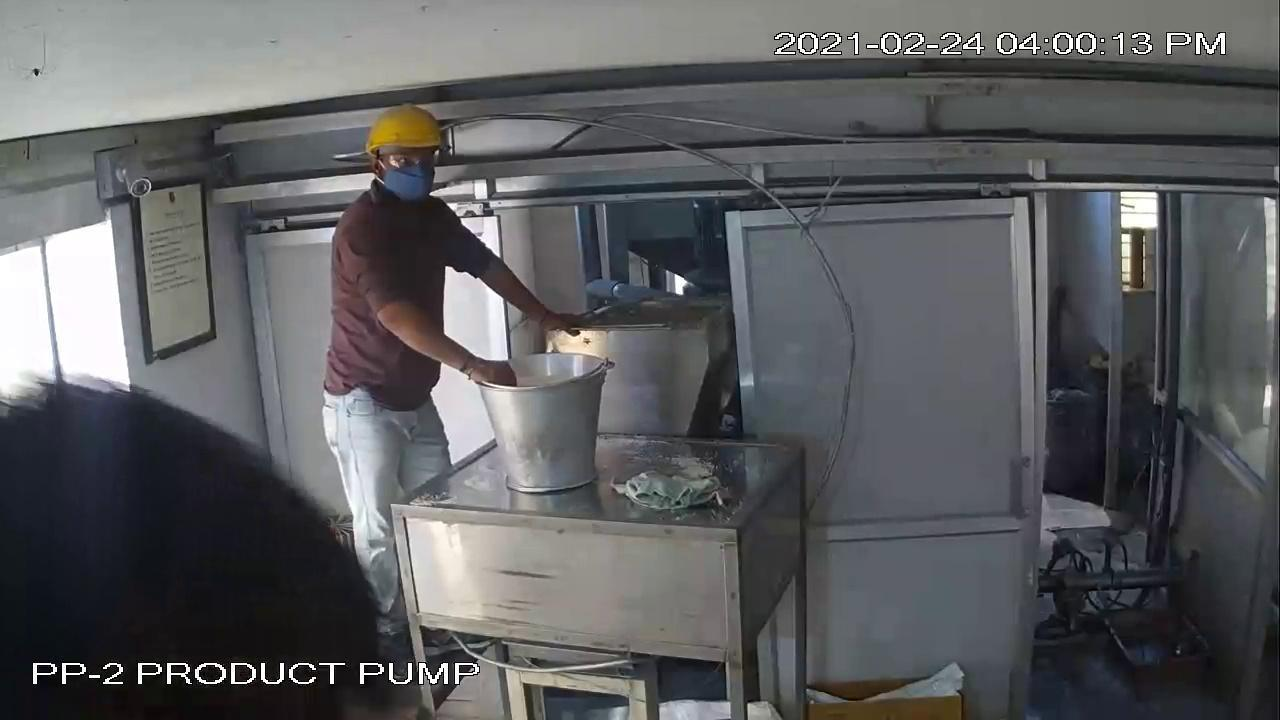helmet: (355, 101, 463, 158)
